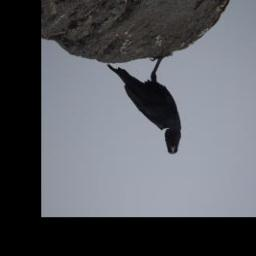Crow: (107, 54, 183, 156)
